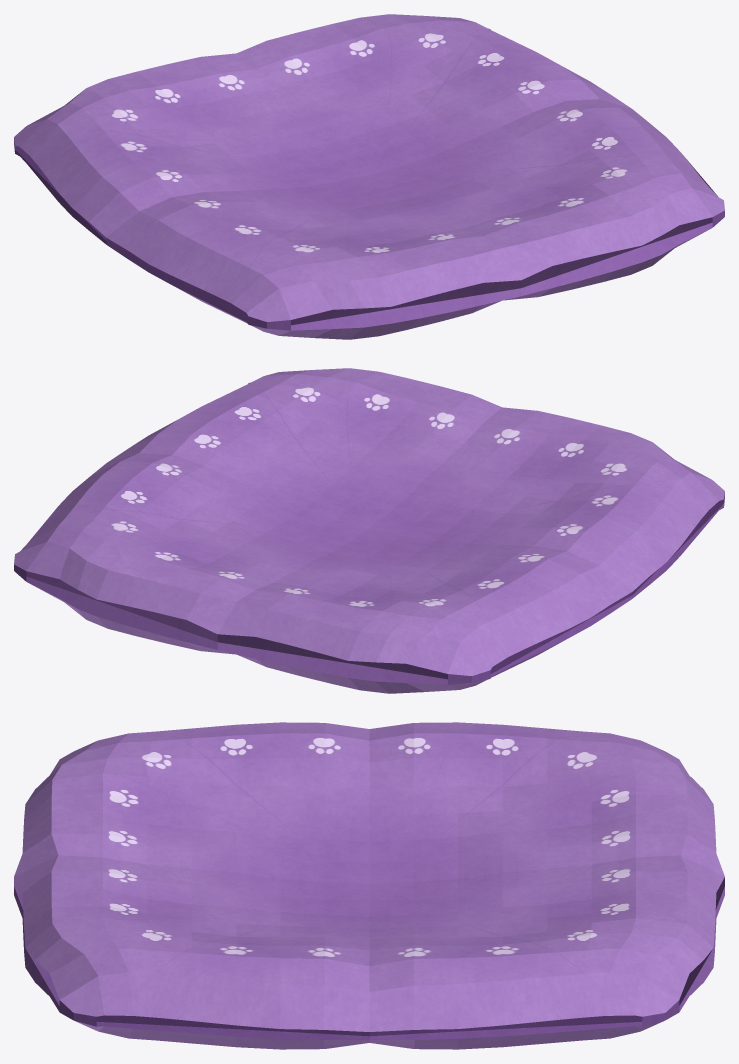
Rendered from Pillow.fbx.
3 renders of one model, top to bottom at view 1: azimuth 30°, elevation 25°; view 2: azimuth 150°, elevation 25°; view 3: azimuth 270°, elevation 25°, orthographic. The views are drawn at different scales.
Visible parts, largest first — view 1: Pillow; view 2: Pillow; view 3: Pillow.
Part boxes in pixels (x1=…): Pillow: x1=14, y1=14, x2=724, y2=339; Pillow: x1=14, y1=368, x2=724, y2=693; Pillow: x1=14, y1=722, x2=724, y2=1049.
Bounding box in the file's own units: 83.65 × 10.44 × 83.65.
